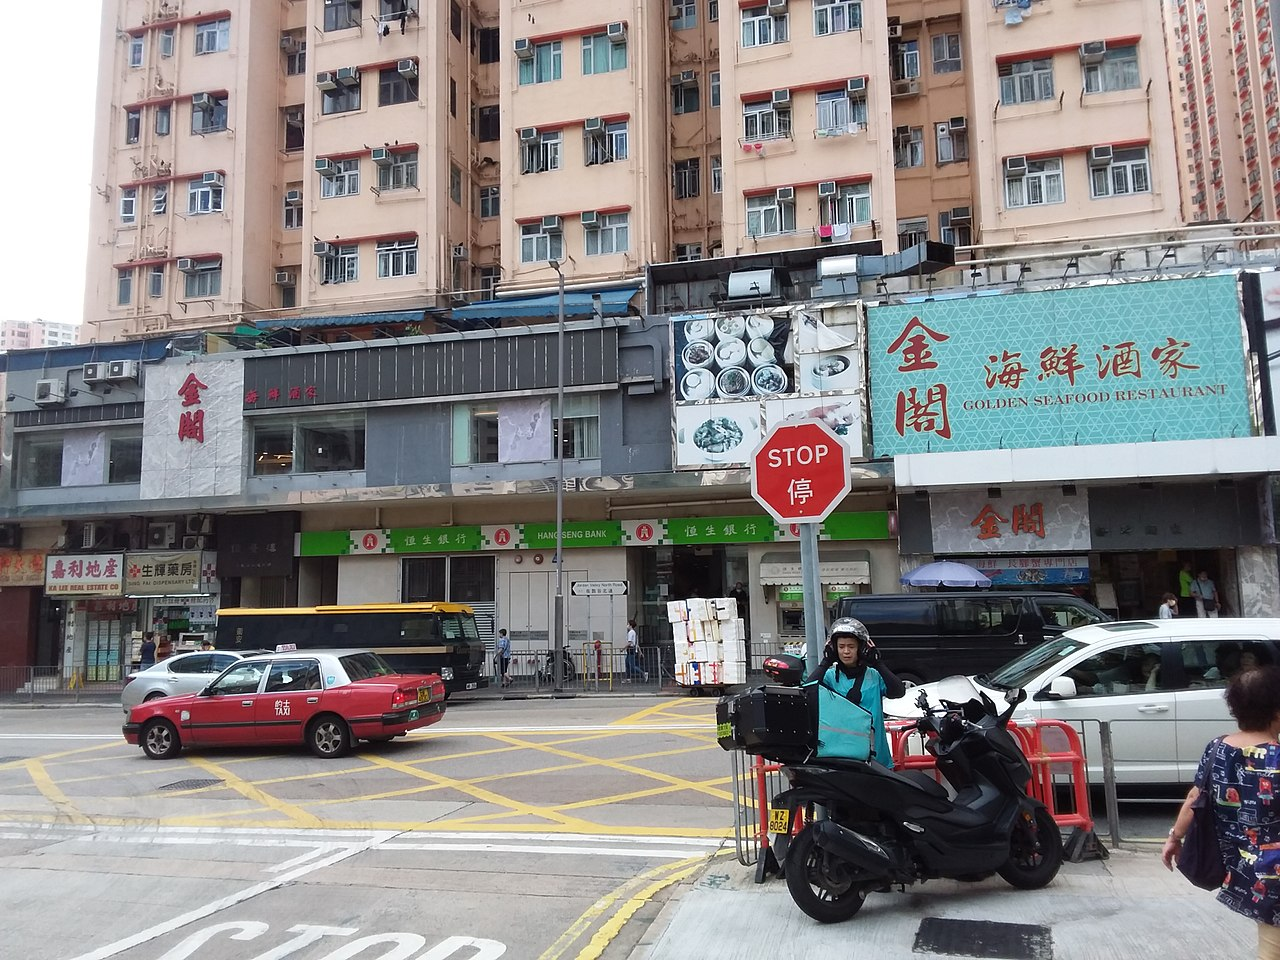Stop: (747, 417, 855, 525)
